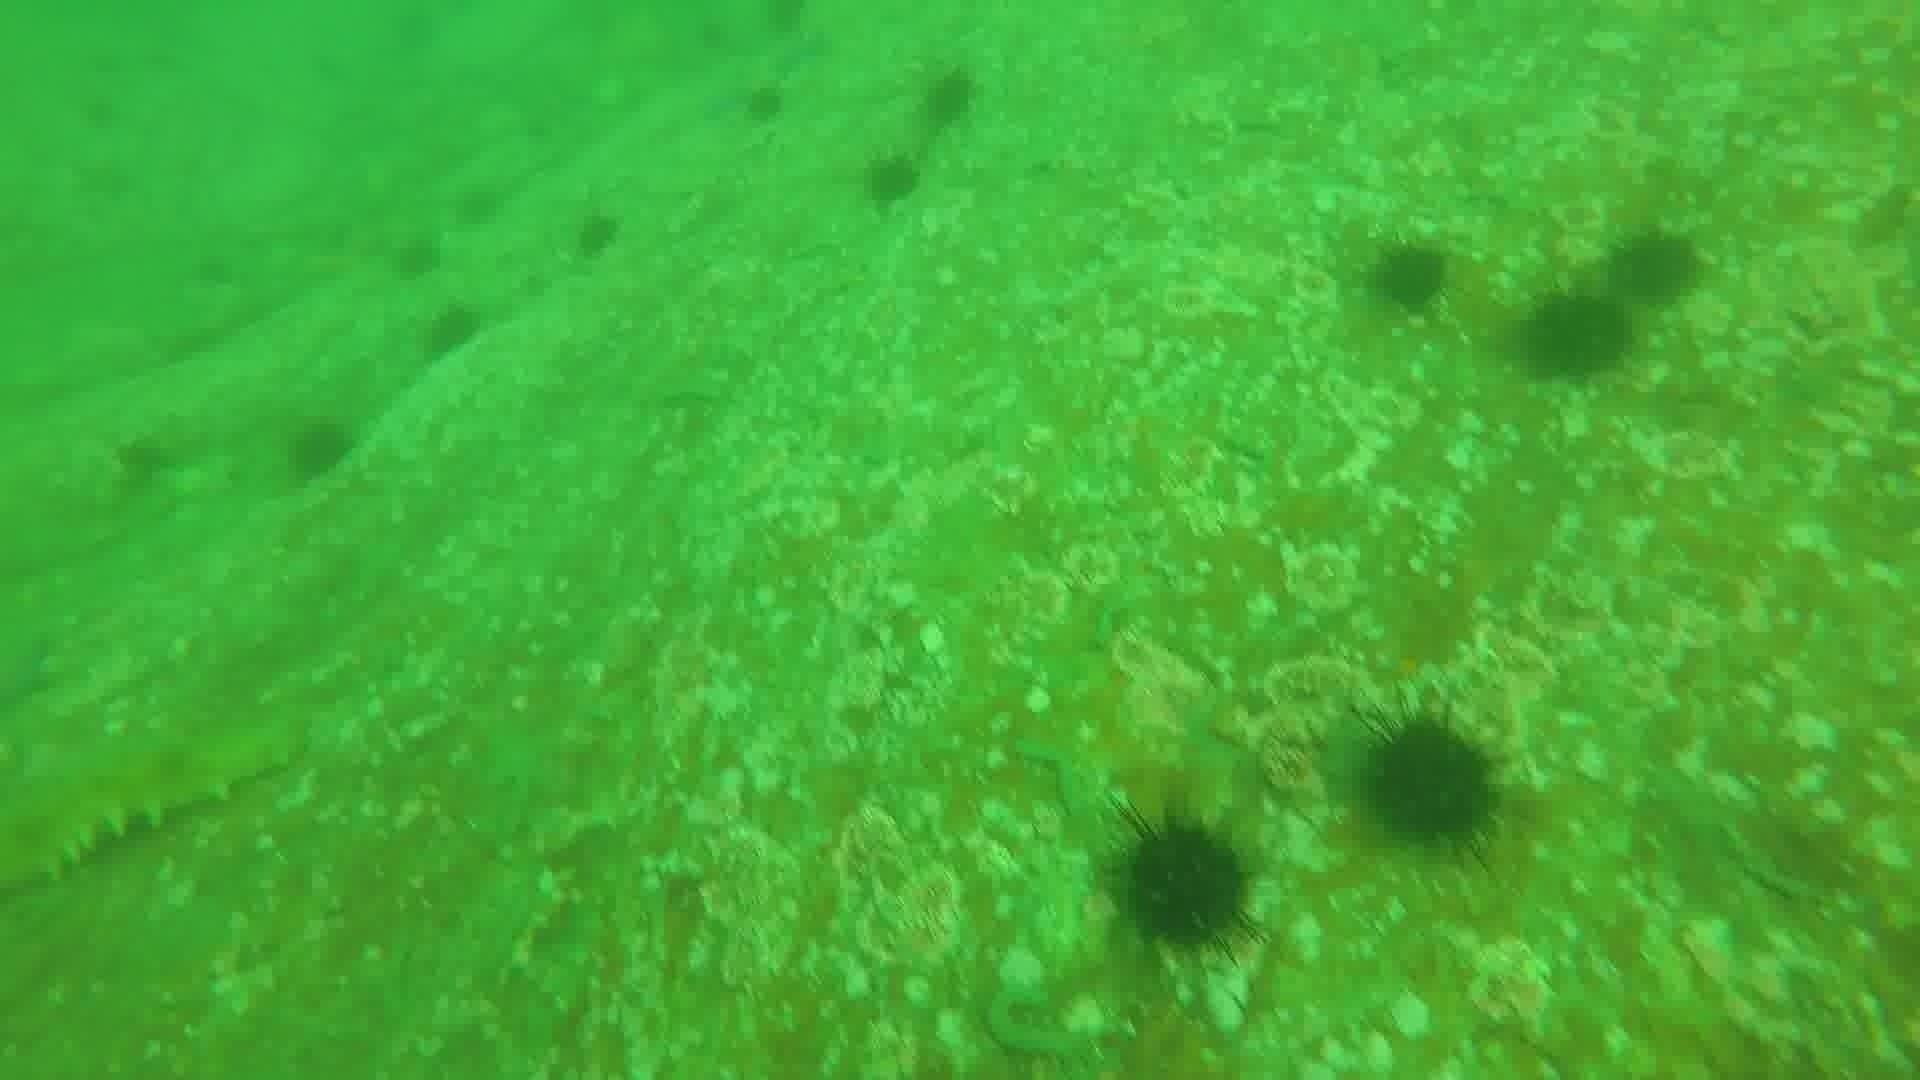echinus: (1106, 806, 1262, 960), (1353, 703, 1510, 856), (1513, 284, 1638, 386), (1605, 225, 1706, 309), (1365, 235, 1456, 318), (281, 414, 359, 485), (415, 301, 487, 367), (914, 65, 982, 131), (858, 149, 926, 212), (568, 207, 625, 262), (386, 231, 446, 284), (448, 179, 508, 232), (738, 79, 791, 128)
holothurian: (0, 709, 298, 895)
